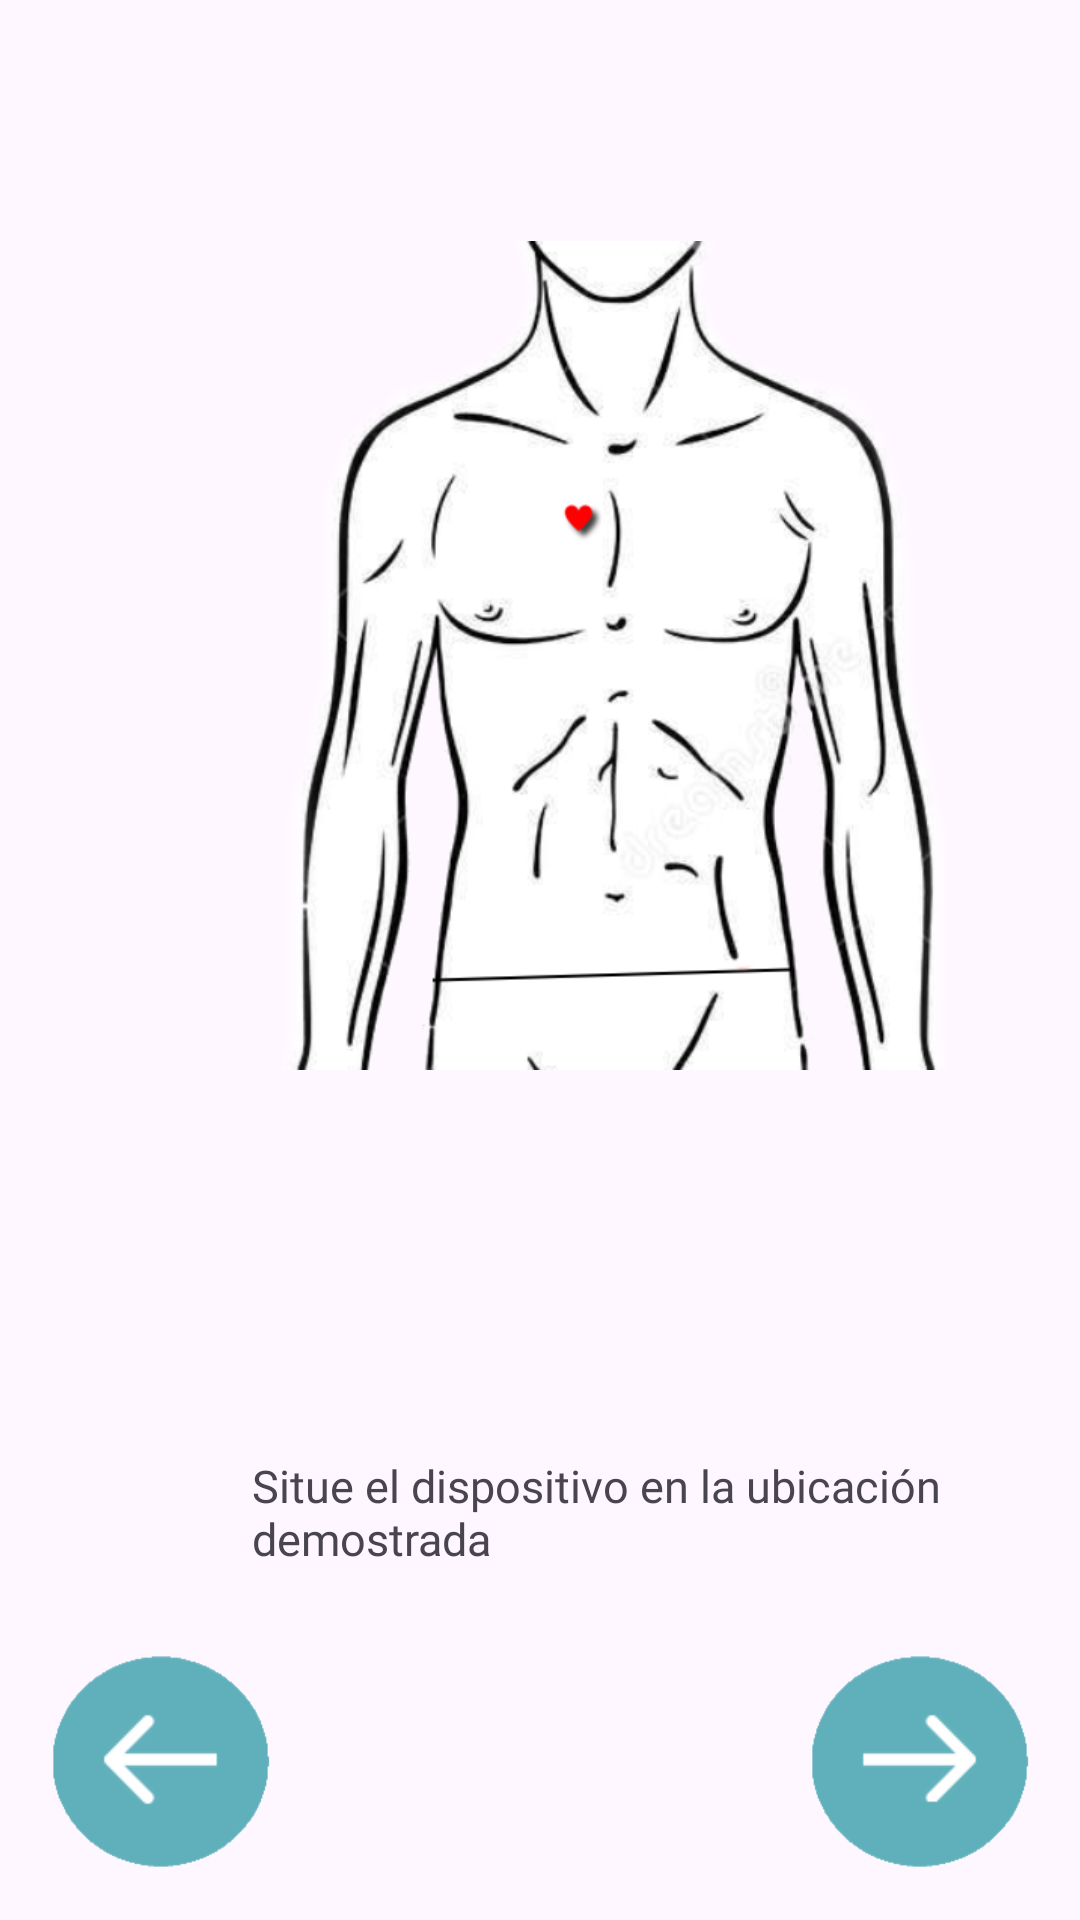

Where to tap for icons on this 1080x1920 app screen, as (x=x, y=y):
flecha derecha: (x=920, y=1761)
flecha izquierda: (x=161, y=1761)
